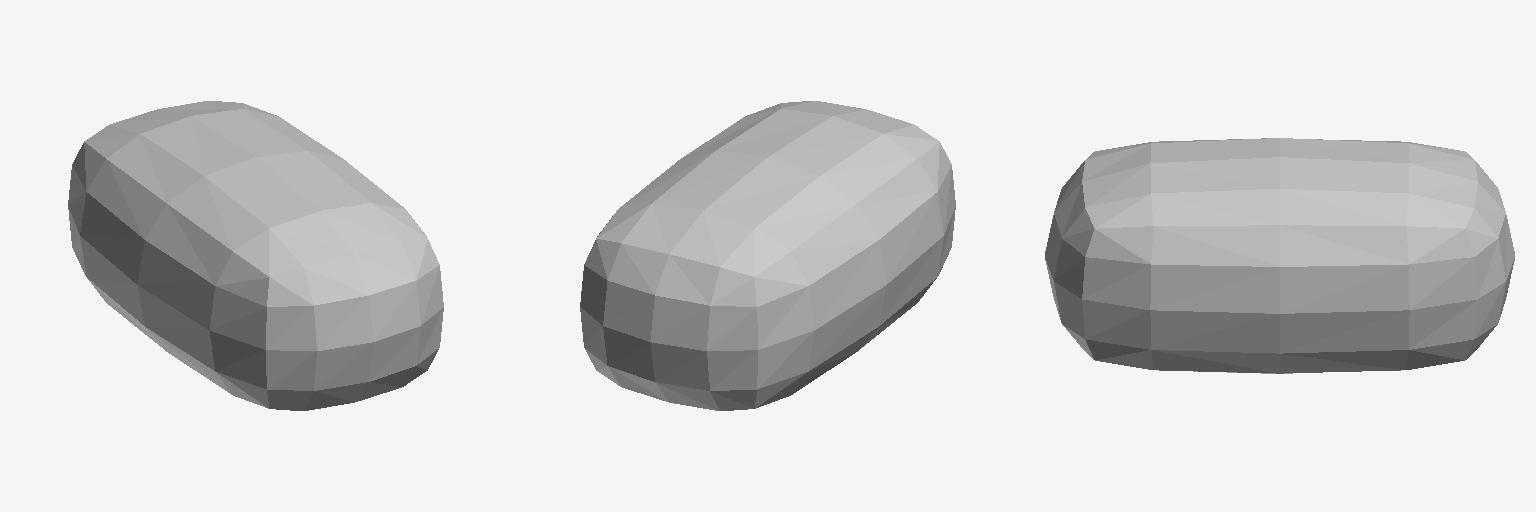
Rendered from foot1.obj.
3 renders of one model, left to right at view 1: azimuth 30°, elevation 25°; view 2: azimuth 150°, elevation 25°; view 3: azimuth 270°, elevation 25°, orthographic.
Parts seen in each view (by area): view 1: polySurface5 pCube15; view 2: polySurface5 pCube15; view 3: polySurface5 pCube15.
Part boxes in pixels (left/top/right/bottom): polySurface5 pCube15: left=68, top=101, right=443, bottom=410; polySurface5 pCube15: left=580, top=101, right=955, bottom=410; polySurface5 pCube15: left=1045, top=138, right=1514, bottom=373.
Bounding box in the file's own units: 1 × 0.7959 × 1.72.